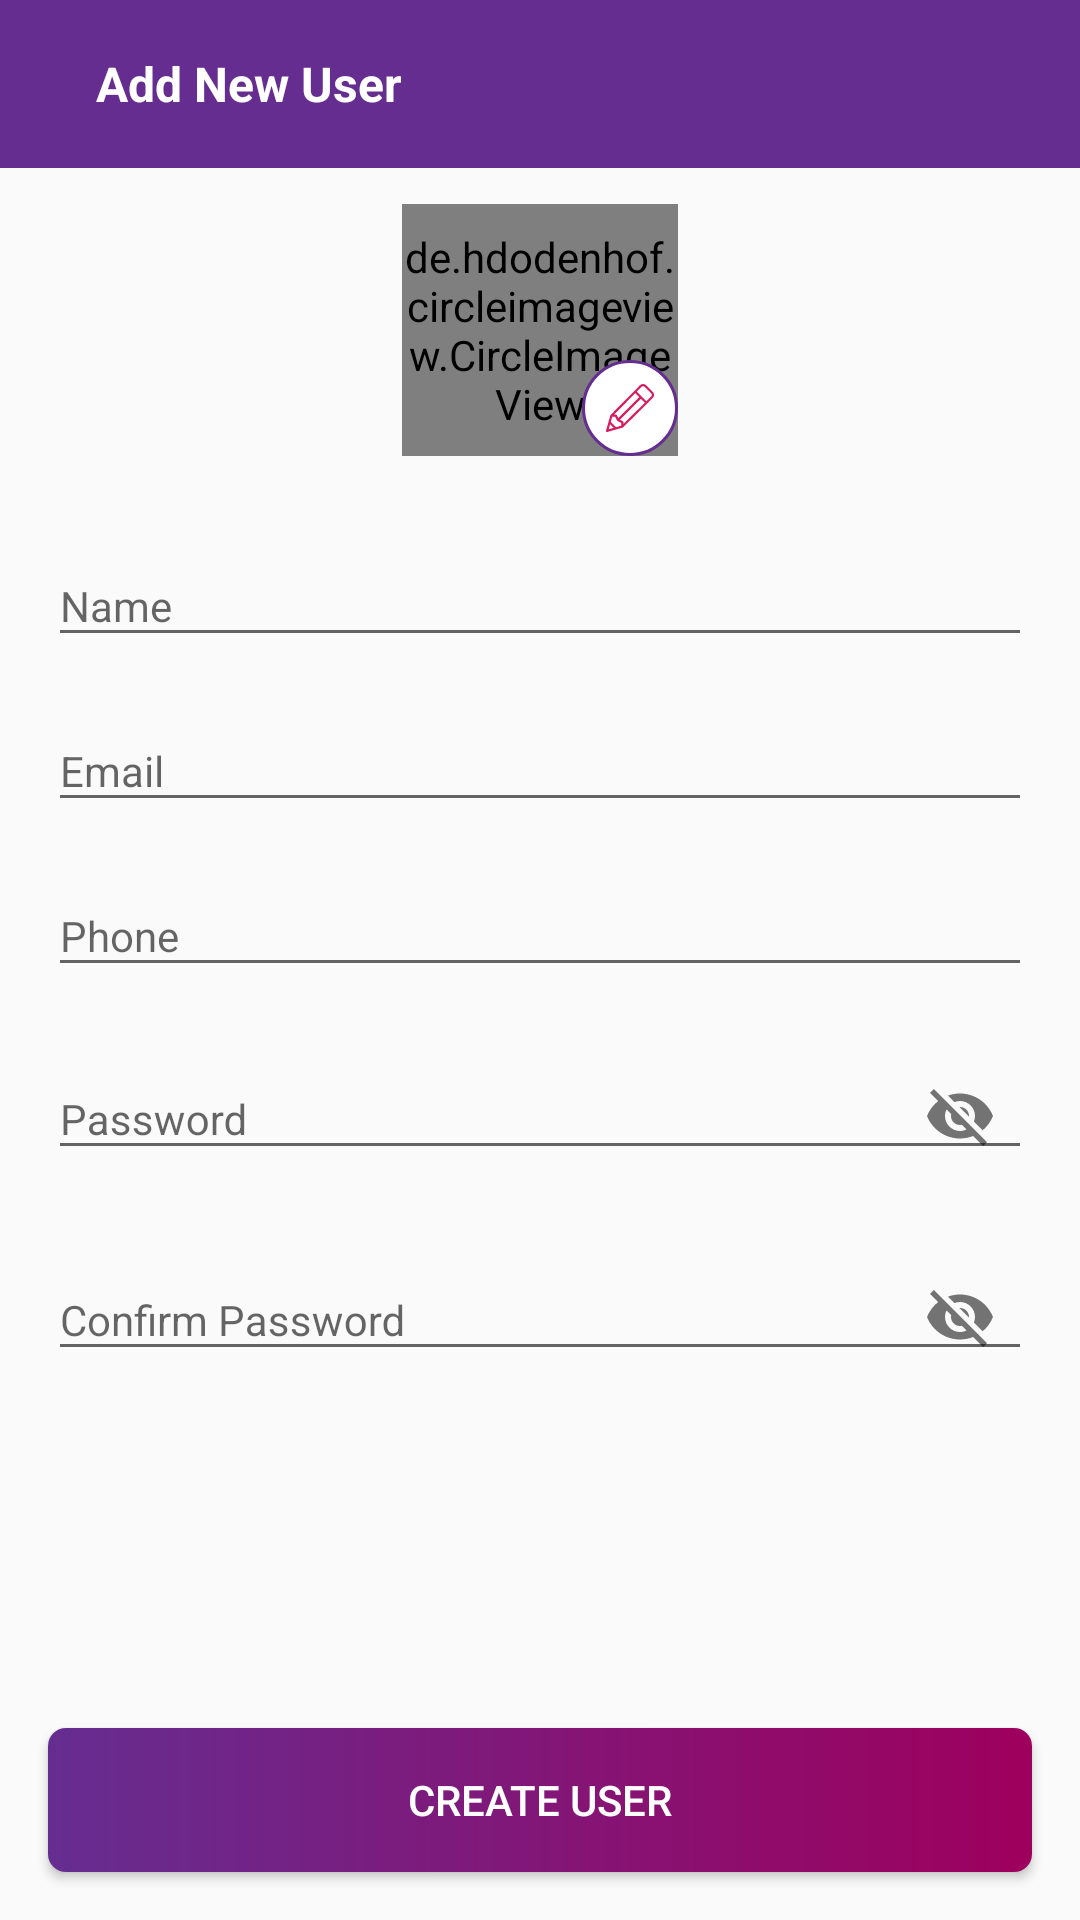

Icon click points for this 1080x1920 phone screenshot, format (x=x, y=y):
pencil: (x=630, y=408)
